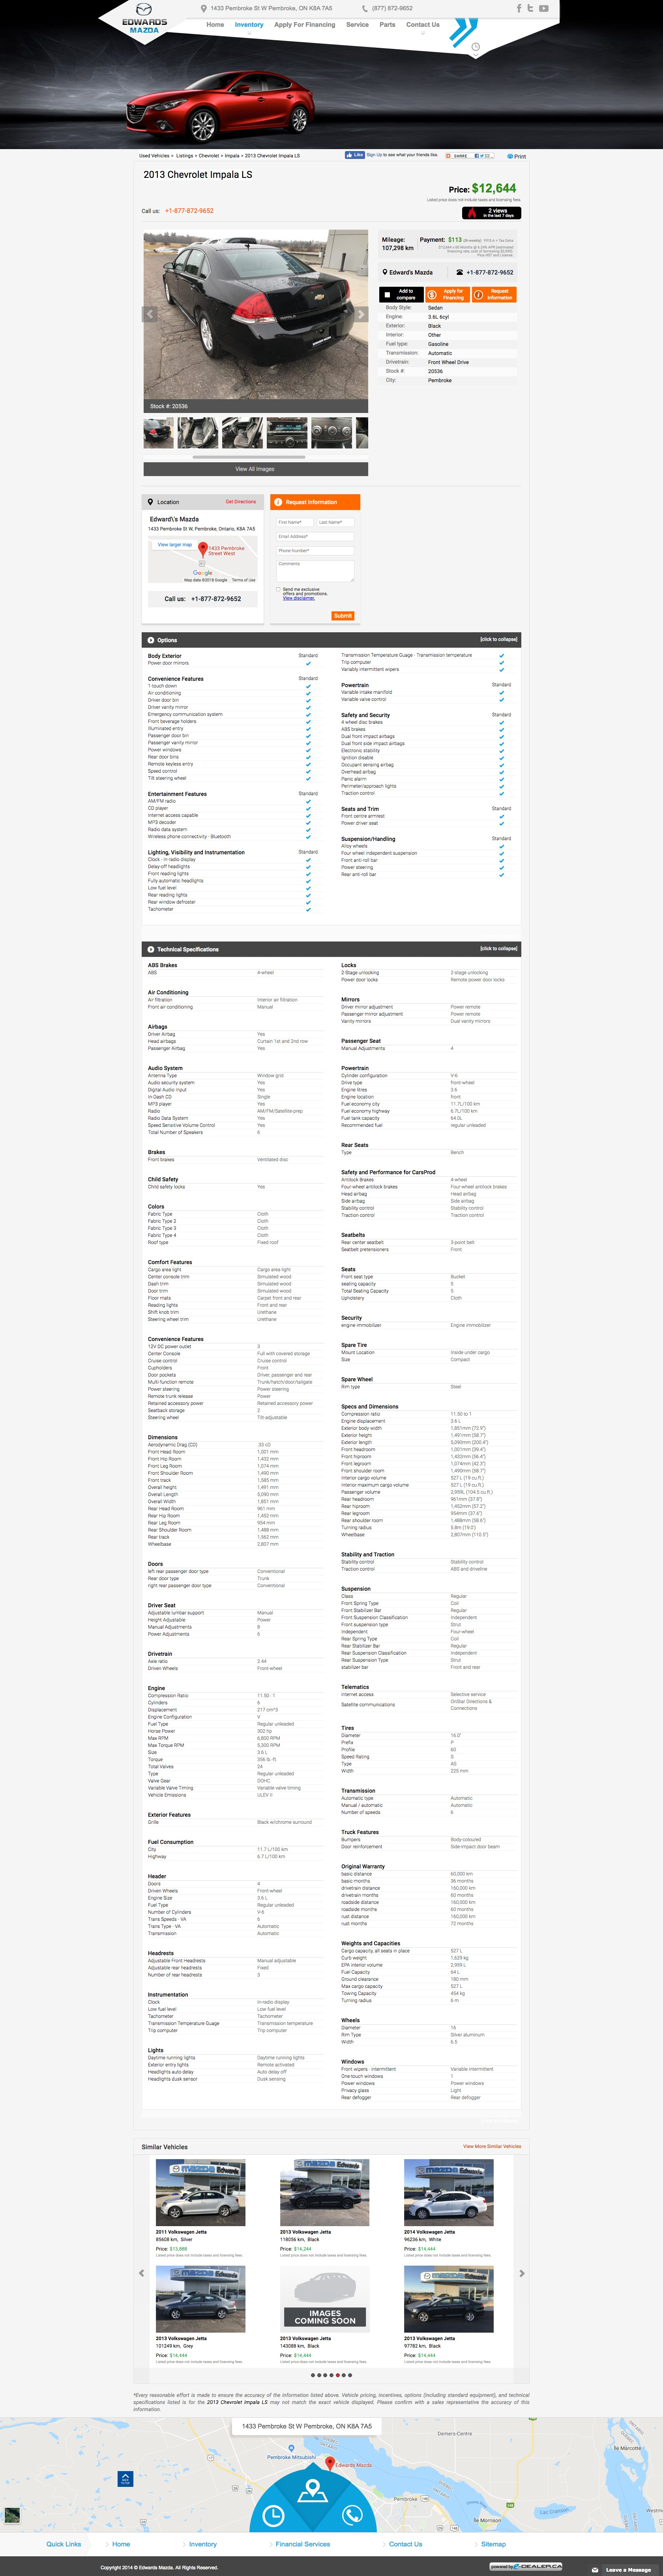car: (352, 306, 370, 324)
